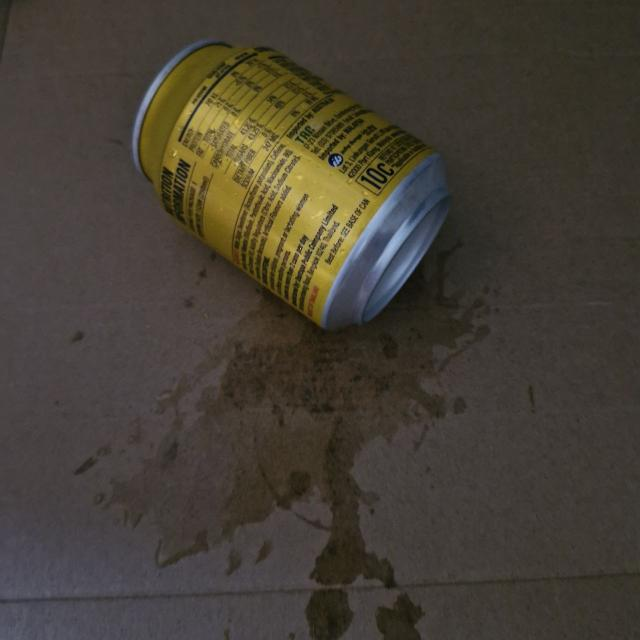metal: (128, 23, 460, 336)
